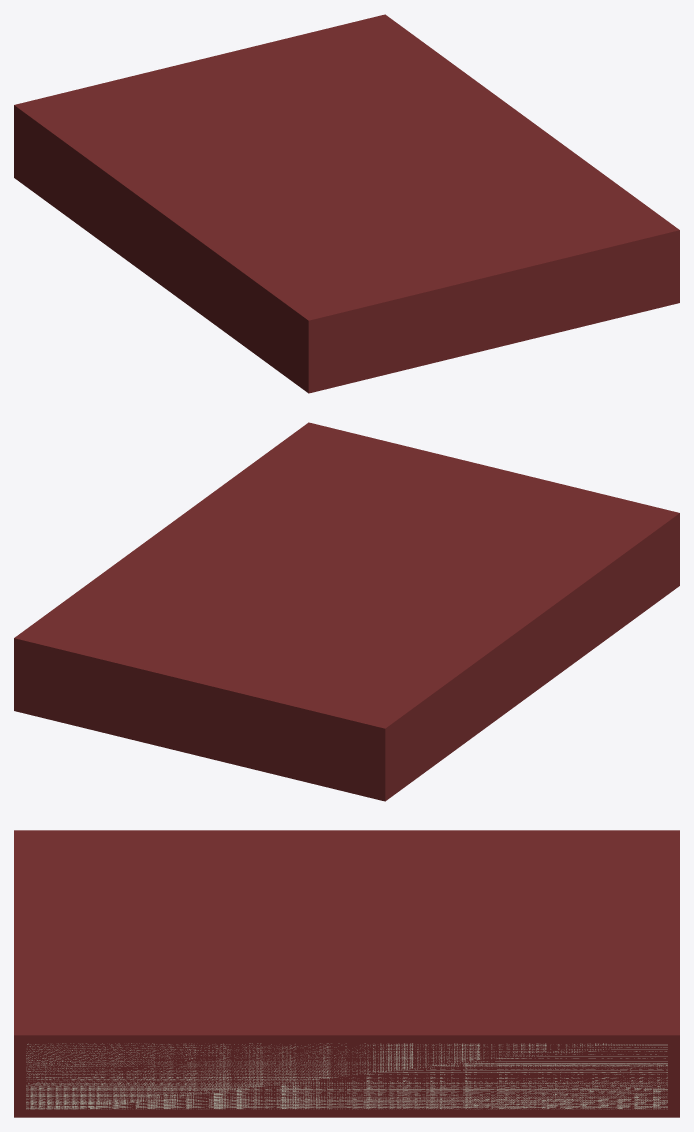
File: book.glb
3 views of the same model, one above another, from view 1: azimuth 30°, elevation 25°; view 2: azimuth 150°, elevation 25°; view 3: azimuth 270°, elevation 25° (orthographic). The views are drawn at different scales.
Parts seen in each view (by area): view 1: book; view 2: book; view 3: book.
Boxes of the visible parts, x1,y1,x2,y2 form: book: [14, 14, 679, 393]; book: [14, 422, 679, 801]; book: [14, 830, 679, 1117].
Size of the model in its own units: 0.16 by 0.03 by 0.22.
